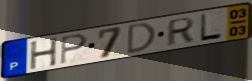7: (97, 26, 124, 60)
D: (125, 21, 158, 56)
H: (29, 36, 59, 71)
L: (198, 13, 224, 43)
P: (59, 33, 89, 66)
R: (165, 15, 197, 48)
